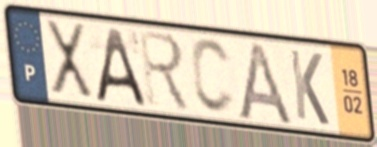A: (235, 39, 296, 128), (92, 25, 149, 109)
C: (188, 36, 238, 118)
K: (287, 46, 332, 129)
R: (136, 26, 194, 115)
X: (43, 16, 96, 104)
